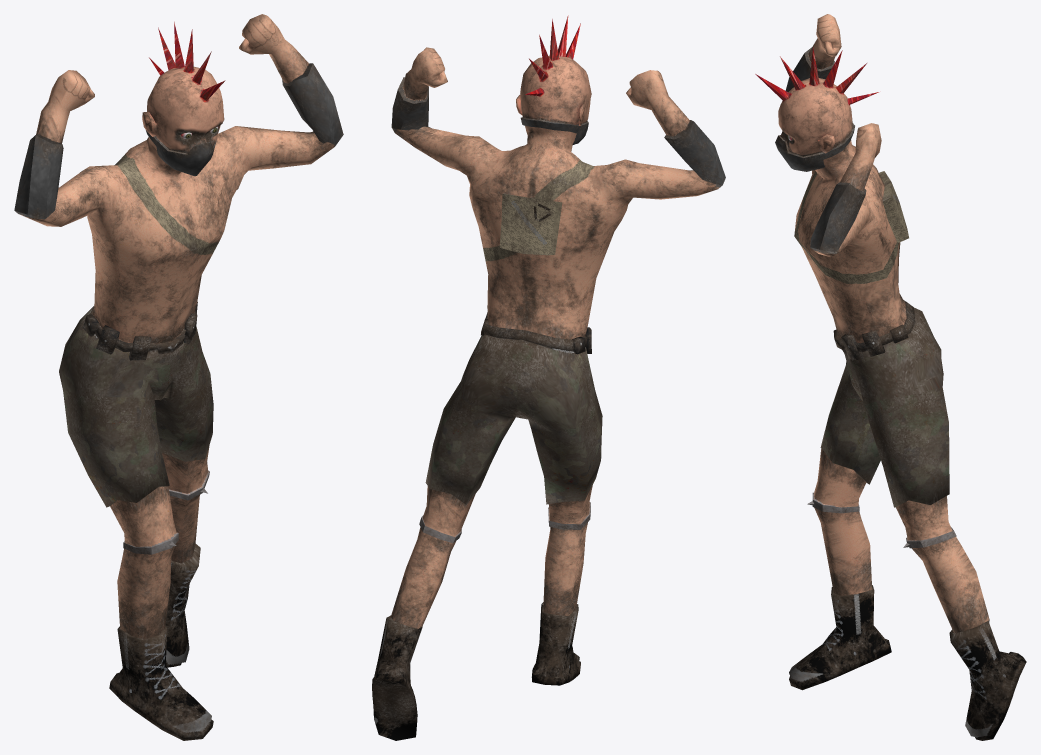
File: Anim_ganar_1_npc2.0028.obj
The picture shows the model from 3 angles, left to right: view 1: azimuth 30°, elevation 25°; view 2: azimuth 150°, elevation 25°; view 3: azimuth 270°, elevation 25°; orthographic projection. The views are drawn at different scales.
Parts seen in each view (by area): view 1: polySurface1; view 2: polySurface1; view 3: polySurface1.
Part boxes in pixels (x1=…): polySurface1: x1=14, y1=14, x2=343, y2=740; polySurface1: x1=372, y1=15, x2=725, y2=740; polySurface1: x1=755, y1=14, x2=1026, y2=740.
Bounding box in the file's own units: 5.18 × 10.53 × 3.93.
2 materials, 2 textured.
